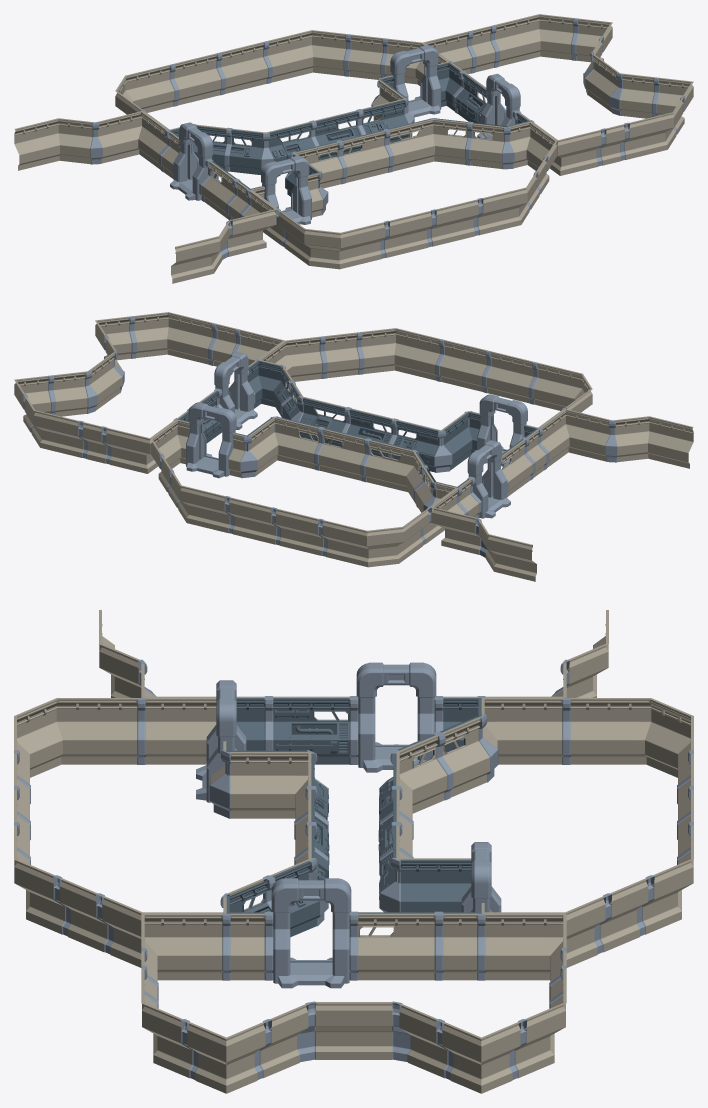
Rendered from walls_level_combined.fbx.
3 renders of one model, top to bottom at view 1: azimuth 30°, elevation 25°; view 2: azimuth 150°, elevation 25°; view 3: azimuth 270°, elevation 25°, orthographic. The views are drawn at different scales.
Visible parts, largest first — view 1: Cwall_012_polySurface134; view 2: Cwall_012_polySurface134; view 3: Cwall_012_polySurface134.
Part boxes in pixels (box(x1,y1,x2,y2)): Cwall_012_polySurface134: box(14, 14, 693, 283); Cwall_012_polySurface134: box(14, 312, 693, 581); Cwall_012_polySurface134: box(14, 610, 693, 1093).
Size of the model in its own units: 23.92 by 2.44 by 16.
